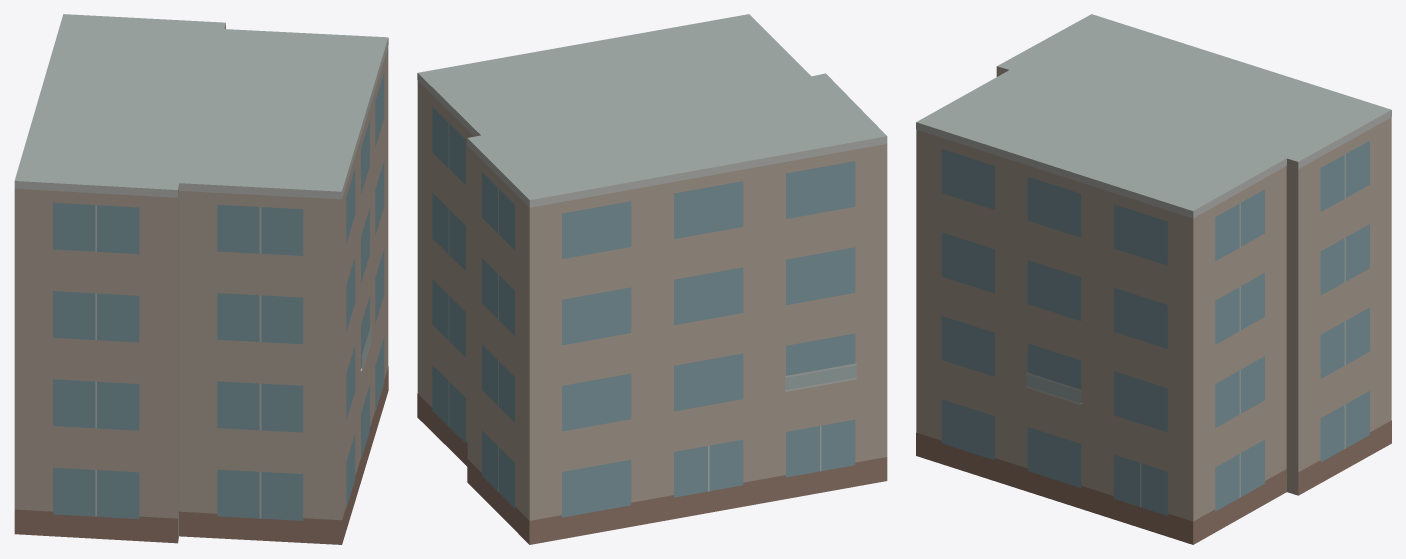
The model's file is survey-upis-32709522.glb.
3 renders of one model, left to right at view 1: azimuth 30°, elevation 25°; view 2: azimuth 150°, elevation 25°; view 3: azimuth 270°, elevation 25°, orthographic. The views are drawn at different scales.
Visible parts, largest first — view 1: survey-upis-32709522.tmp; view 2: survey-upis-32709522.tmp; view 3: survey-upis-32709522.tmp.
Boxes of the visible parts, bbox=[...] form: survey-upis-32709522.tmp: bbox=[14, 14, 388, 544]; survey-upis-32709522.tmp: bbox=[417, 14, 887, 544]; survey-upis-32709522.tmp: bbox=[916, 14, 1391, 544].
Size of the model in its own units: 14.2 by 11.2 by 14.48.
